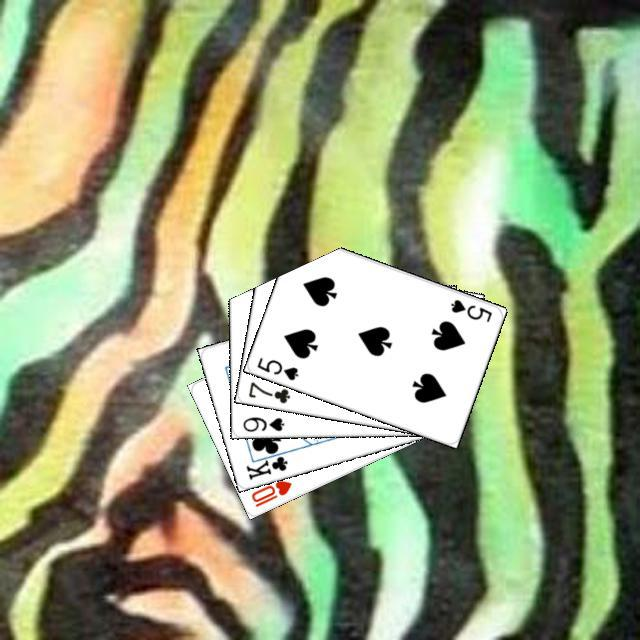10h: (246, 475, 293, 509)
5s: (252, 352, 300, 382), (446, 294, 494, 324)
7c: (243, 377, 292, 405)
9s: (238, 412, 286, 433)
Kc: (241, 446, 291, 482)
